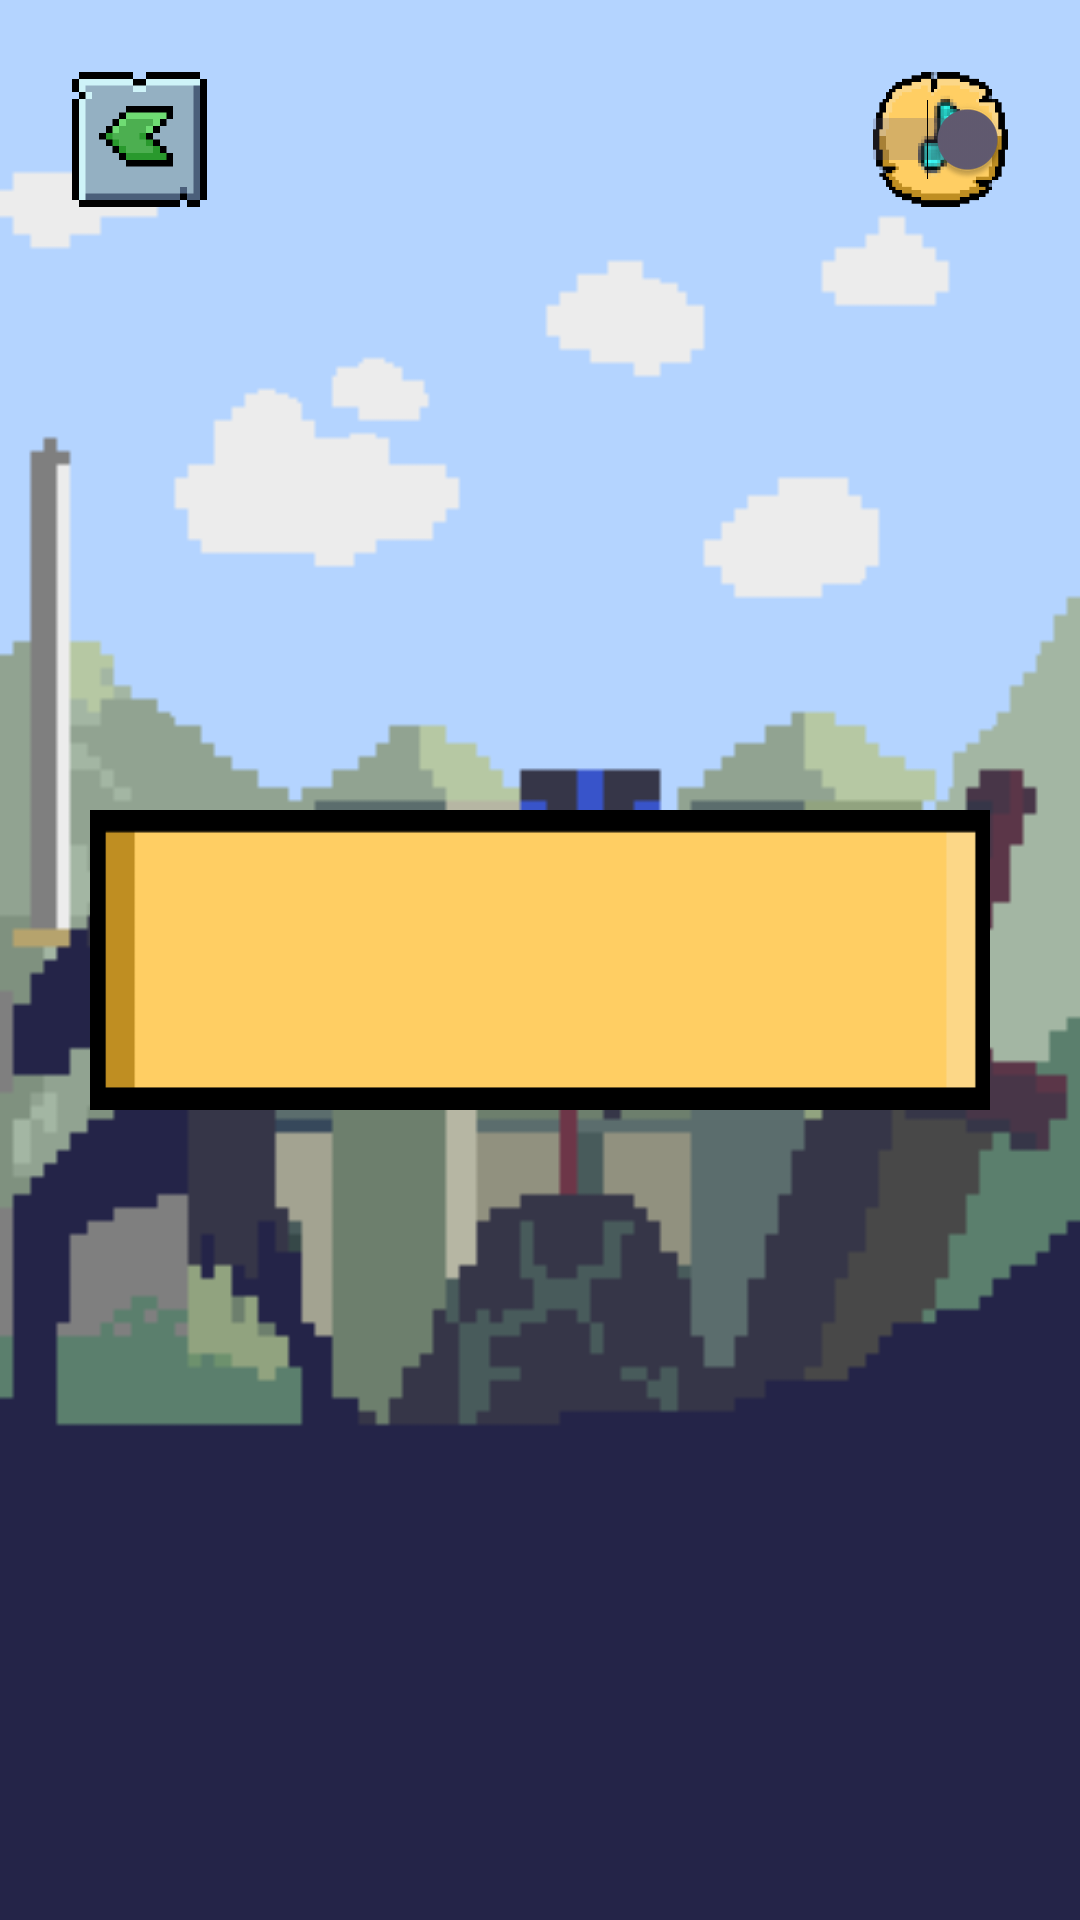

Named icons in this screenshot (1080px x 1920px) and their bounding boxes, (x1, y1, x2, y2):
backbutton: (72, 72, 207, 207)
